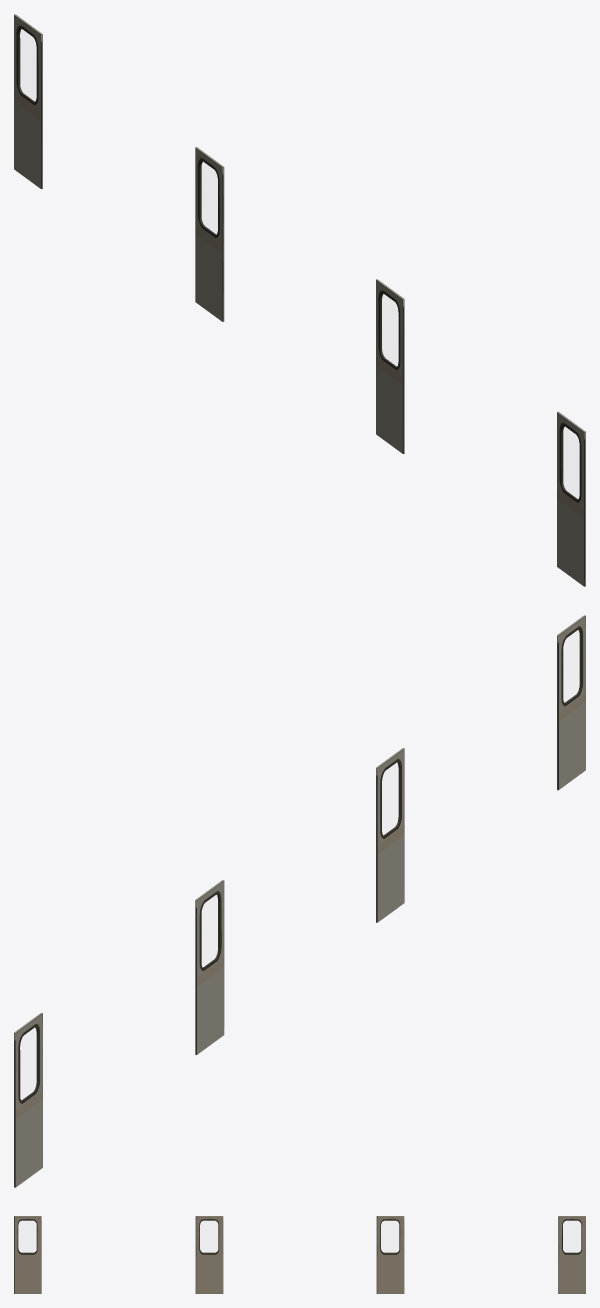
Rendered from SubwayTrain04_DoorL1.FBX.
3 views of the same model, one above another, from view 1: azimuth 30°, elevation 25°; view 2: azimuth 150°, elevation 25°; view 3: azimuth 270°, elevation 25° (orthographic). The views are drawn at different scales.
Parts seen in each view (by area): view 1: SubwayTrain04_DoorL1; view 2: SubwayTrain04_DoorL1; view 3: SubwayTrain04_DoorL1.
Boxes of the visible parts, left/top/right/bottom form: SubwayTrain04_DoorL1: left=14, top=14, right=585, bottom=586; SubwayTrain04_DoorL1: left=14, top=615, right=585, bottom=1187; SubwayTrain04_DoorL1: left=14, top=1216, right=585, bottom=1293.
Bounding box in the file's own units: 31.81 × 2619 × 17517.
